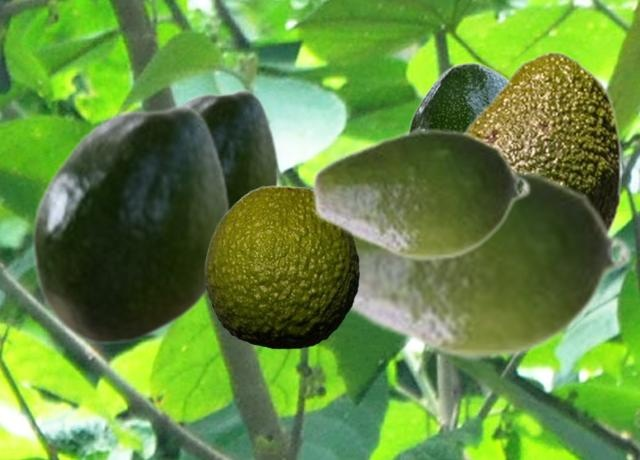avocado: (346, 162, 633, 362), (30, 103, 229, 344), (309, 125, 531, 262), (462, 51, 620, 231), (204, 185, 358, 348), (178, 88, 278, 206), (407, 62, 507, 130)
